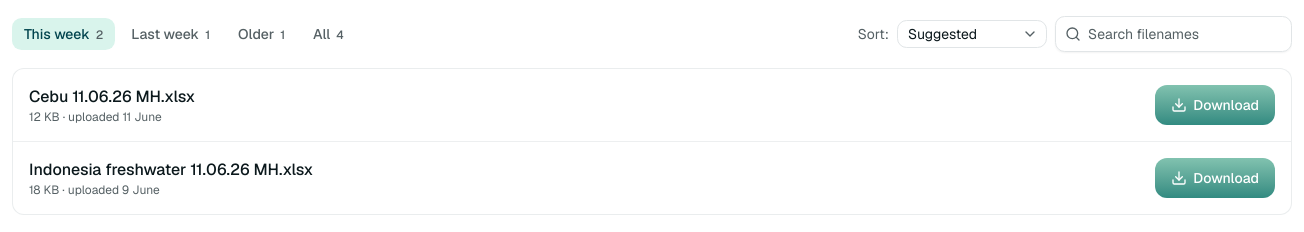
Scenario: <StocklistFileList /> › shows last-week files only on the 'Last week' tab
Click the button "Last week1". click: (171, 34)
box: [119,18,222,50]
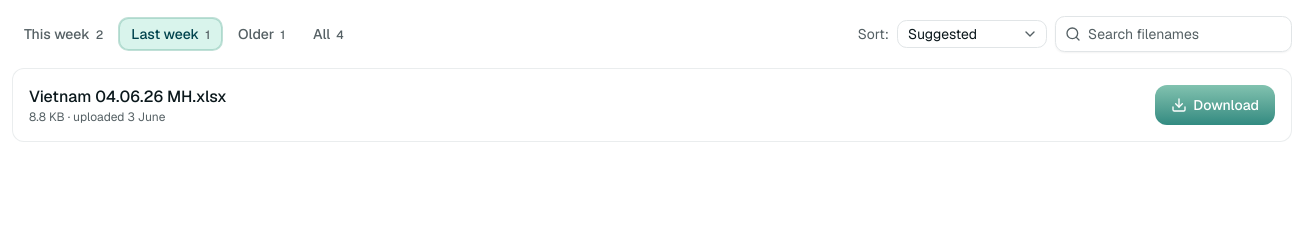
expect the text "Vietnam 04.06.26 MH.xlsx" is shown: met, box [29,85,227,109]
expect the text "Cebu 11.06.26 MH.xlsx" is gone: met
